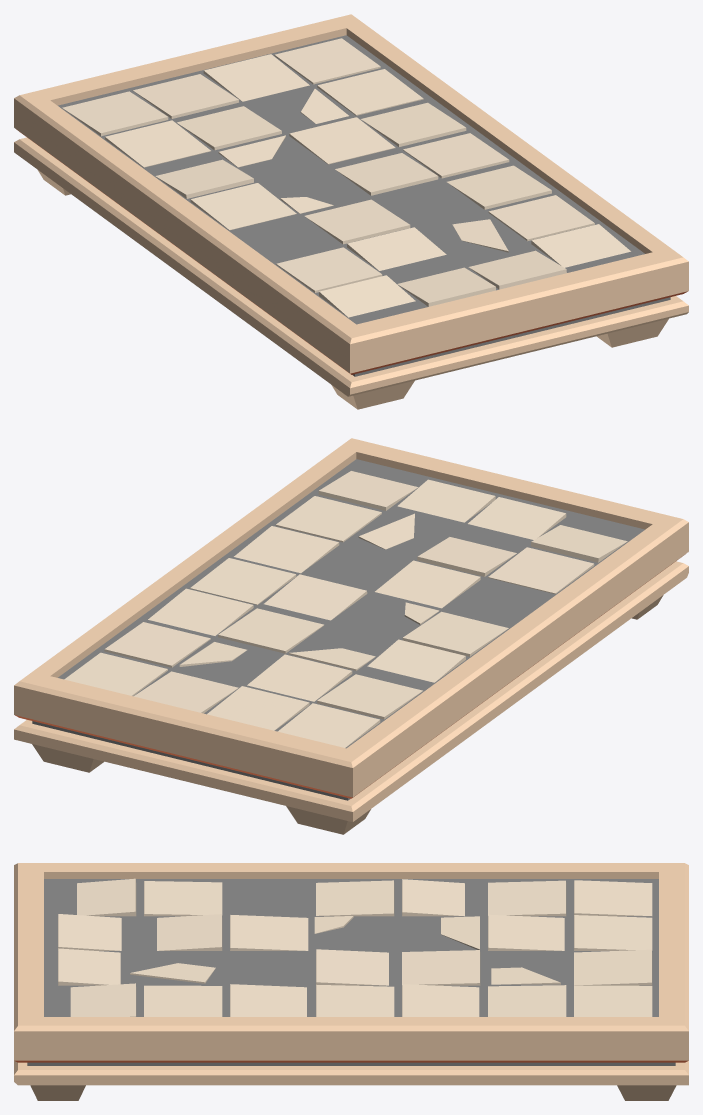
File: Floating_platform.fbx
3 renders of one model, top to bottom at view 1: azimuth 30°, elevation 25°; view 2: azimuth 150°, elevation 25°; view 3: azimuth 270°, elevation 25°, orthographic.
Visible parts, largest first — view 1: Floating Platform; view 2: Floating Platform; view 3: Floating Platform.
Boxes of the visible parts, x1,y1,x2,y2 form: Floating Platform: (14,14,688,409); Floating Platform: (14,438,688,834); Floating Platform: (14,863,688,1100).
Size of the model in its own units: 1430 by 545 by 2456.
